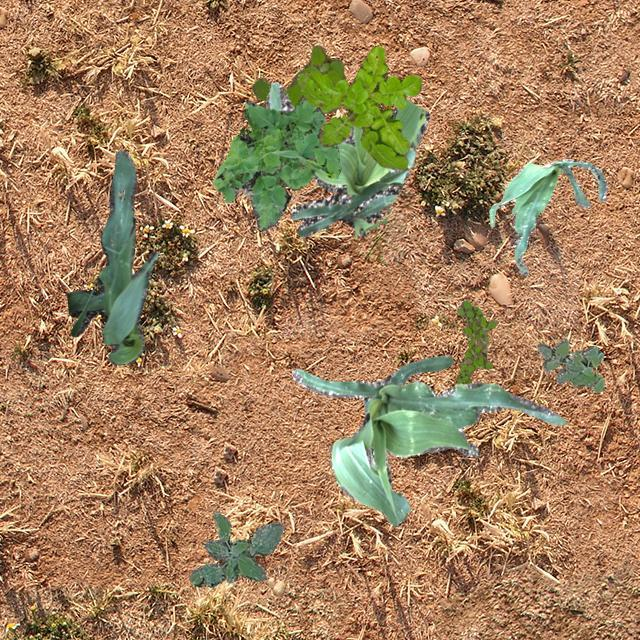crop: (290, 354, 566, 526), (264, 81, 428, 238), (66, 148, 156, 366), (488, 158, 606, 274)
weed: (212, 96, 341, 230), (296, 44, 420, 170), (188, 512, 282, 586), (250, 44, 344, 108), (536, 338, 602, 392), (454, 300, 496, 384)
